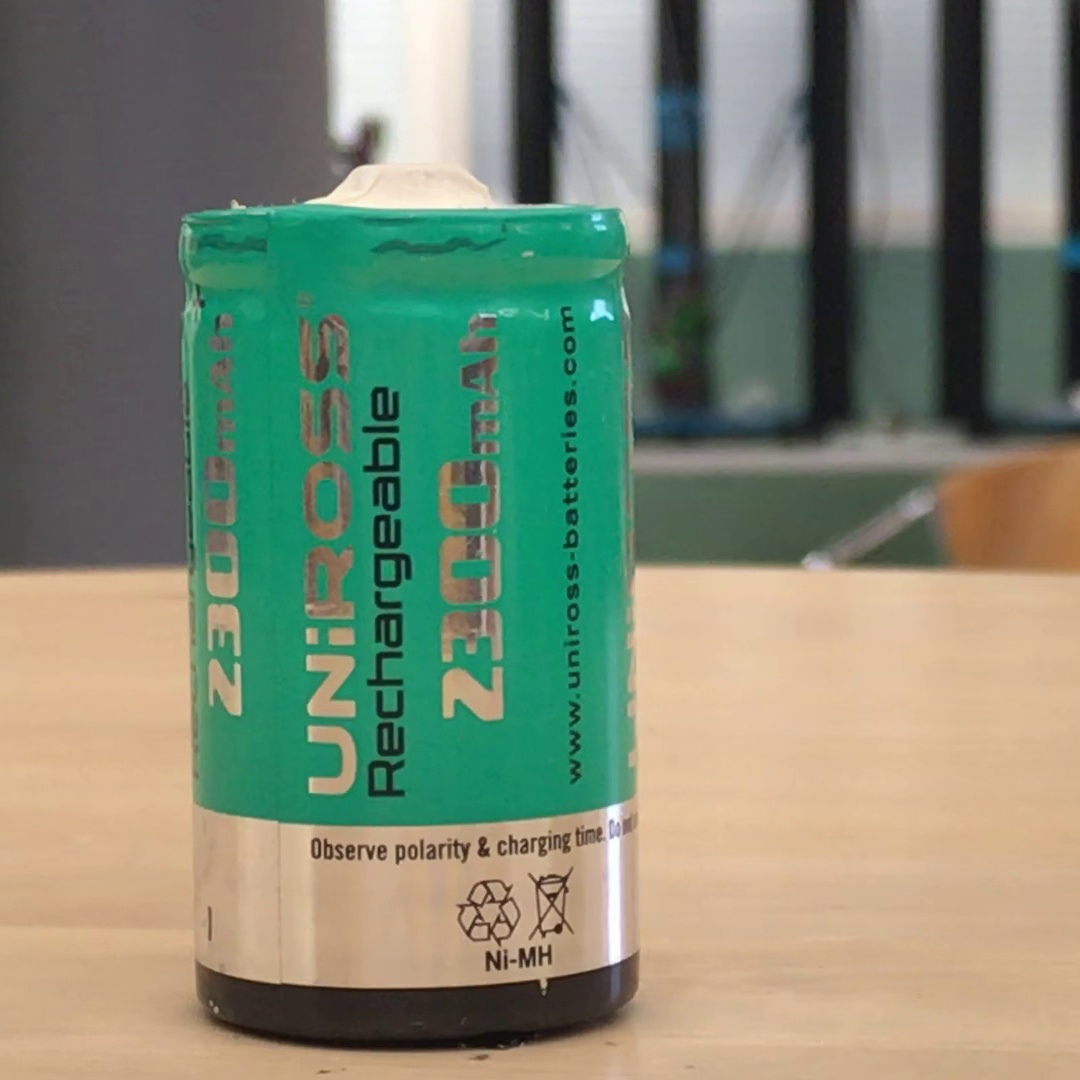keyword: (475, 934, 562, 982)
